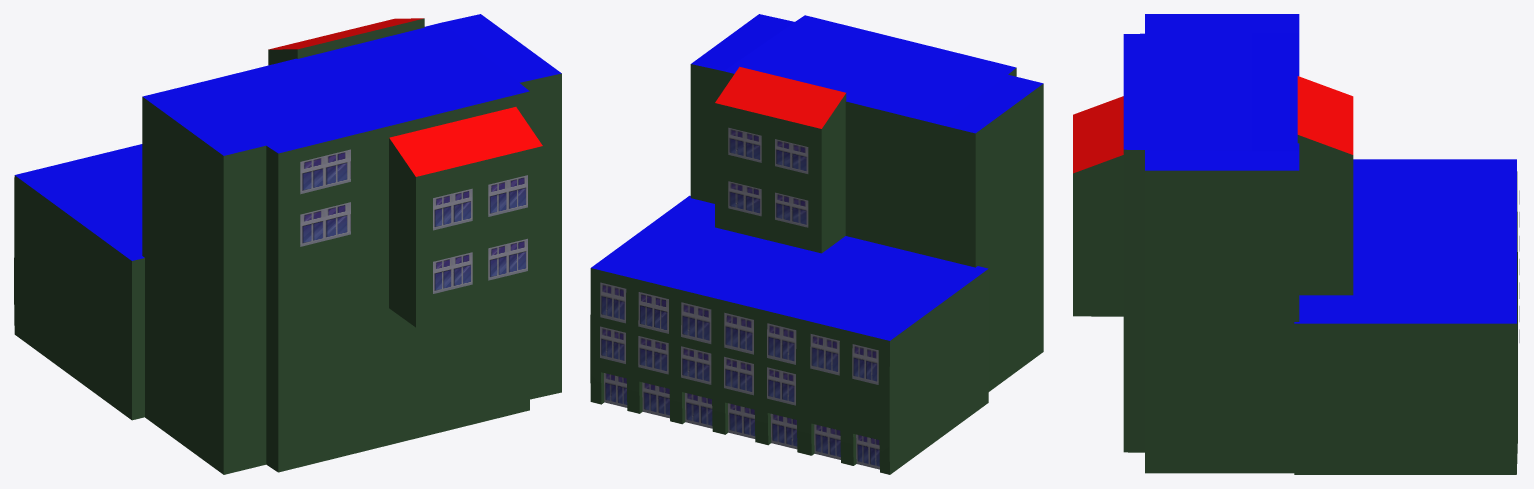
Rendered from block_medium_01.FBX.
3 views of the same model, side by side, from view 1: azimuth 30°, elevation 25°; view 2: azimuth 150°, elevation 25°; view 3: azimuth 270°, elevation 25° (orthographic). The views are drawn at different scales.
Visible parts, largest first — view 1: Object081, Box1046, Box1032, Box1047; view 2: Box1032, Object081, Box1047; view 3: Object081, Box1032, Box1047, Box1046.
Part boxes in pixels (x1=…): Object081: x1=142, y1=14, x2=561, y2=474; Box1046: x1=389, y1=107, x2=542, y2=327; Box1032: x1=14, y1=144, x2=144, y2=420; Box1047: x1=268, y1=18, x2=424, y2=65; Box1032: x1=590, y1=195, x2=988, y2=474; Object081: x1=690, y1=14, x2=1043, y2=391; Box1047: x1=715, y1=66, x2=846, y2=253; Object081: x1=1123, y1=14, x2=1299, y2=473; Box1032: x1=1294, y1=159, x2=1519, y2=474; Box1047: x1=1297, y1=76, x2=1353, y2=295; Box1046: x1=1073, y1=96, x2=1123, y2=316.
Bounding box in the file's own units: 28 × 24.76 × 32.19.
